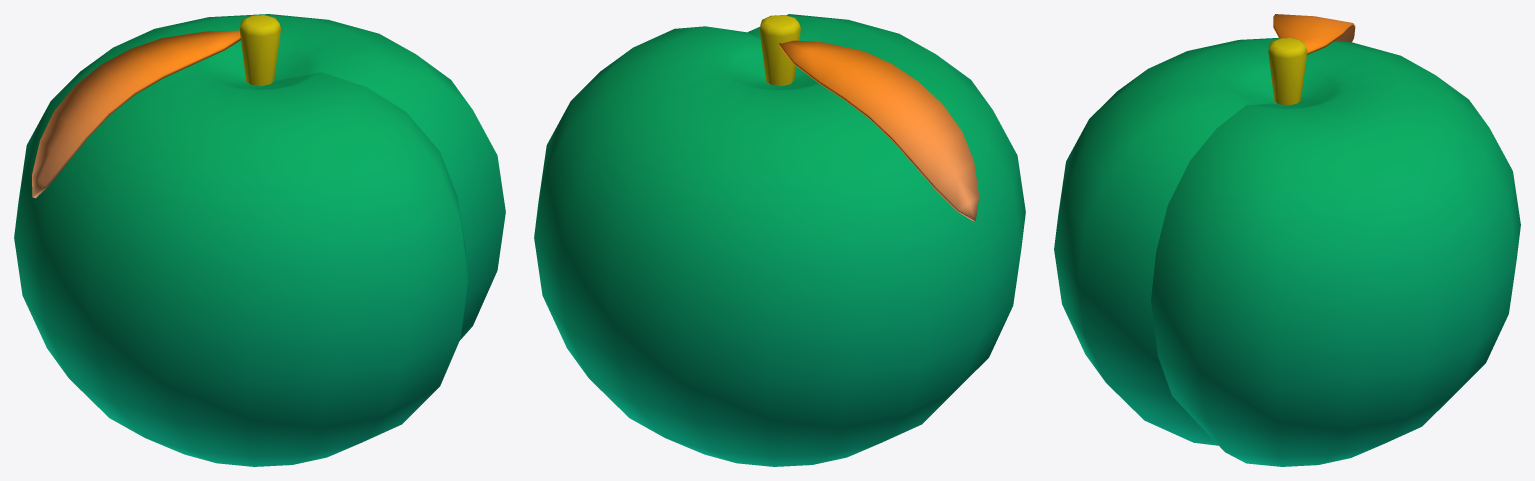
Rendered from Peach.fbx.
3 views of the same model, side by side, from view 1: azimuth 30°, elevation 25°; view 2: azimuth 150°, elevation 25°; view 3: azimuth 270°, elevation 25° (orthographic). The views are drawn at different scales.
Parts seen in each view (by area): view 1: Peach; view 2: Peach; view 3: Peach.
Boxes of the visible parts, x1,y1,x2,y2 form: Peach: [14, 14, 505, 466]; Peach: [534, 14, 1025, 466]; Peach: [1054, 14, 1520, 466].
Bounding box in the file's own units: 125 × 122 × 124.
